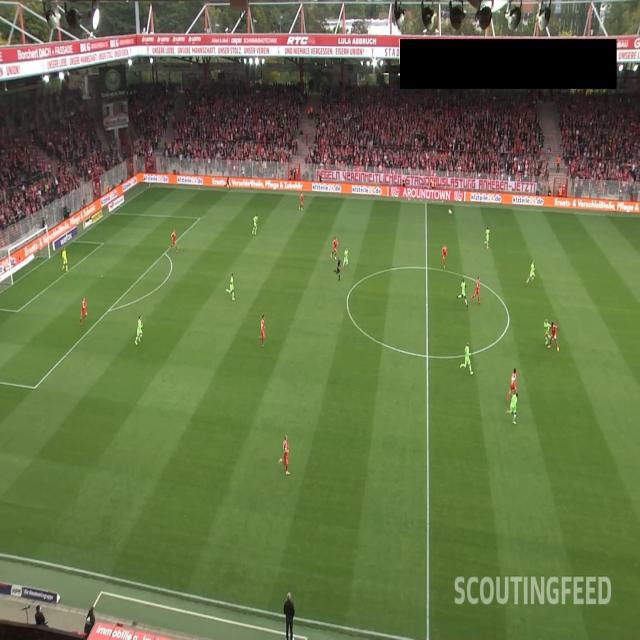ball: (448, 208, 452, 215)
